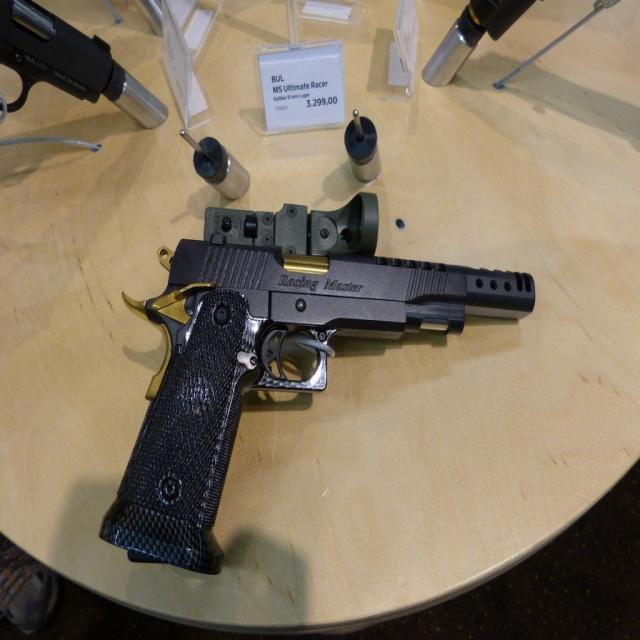pistol: (99, 233, 538, 583), (0, 0, 126, 119), (454, 0, 548, 51)
